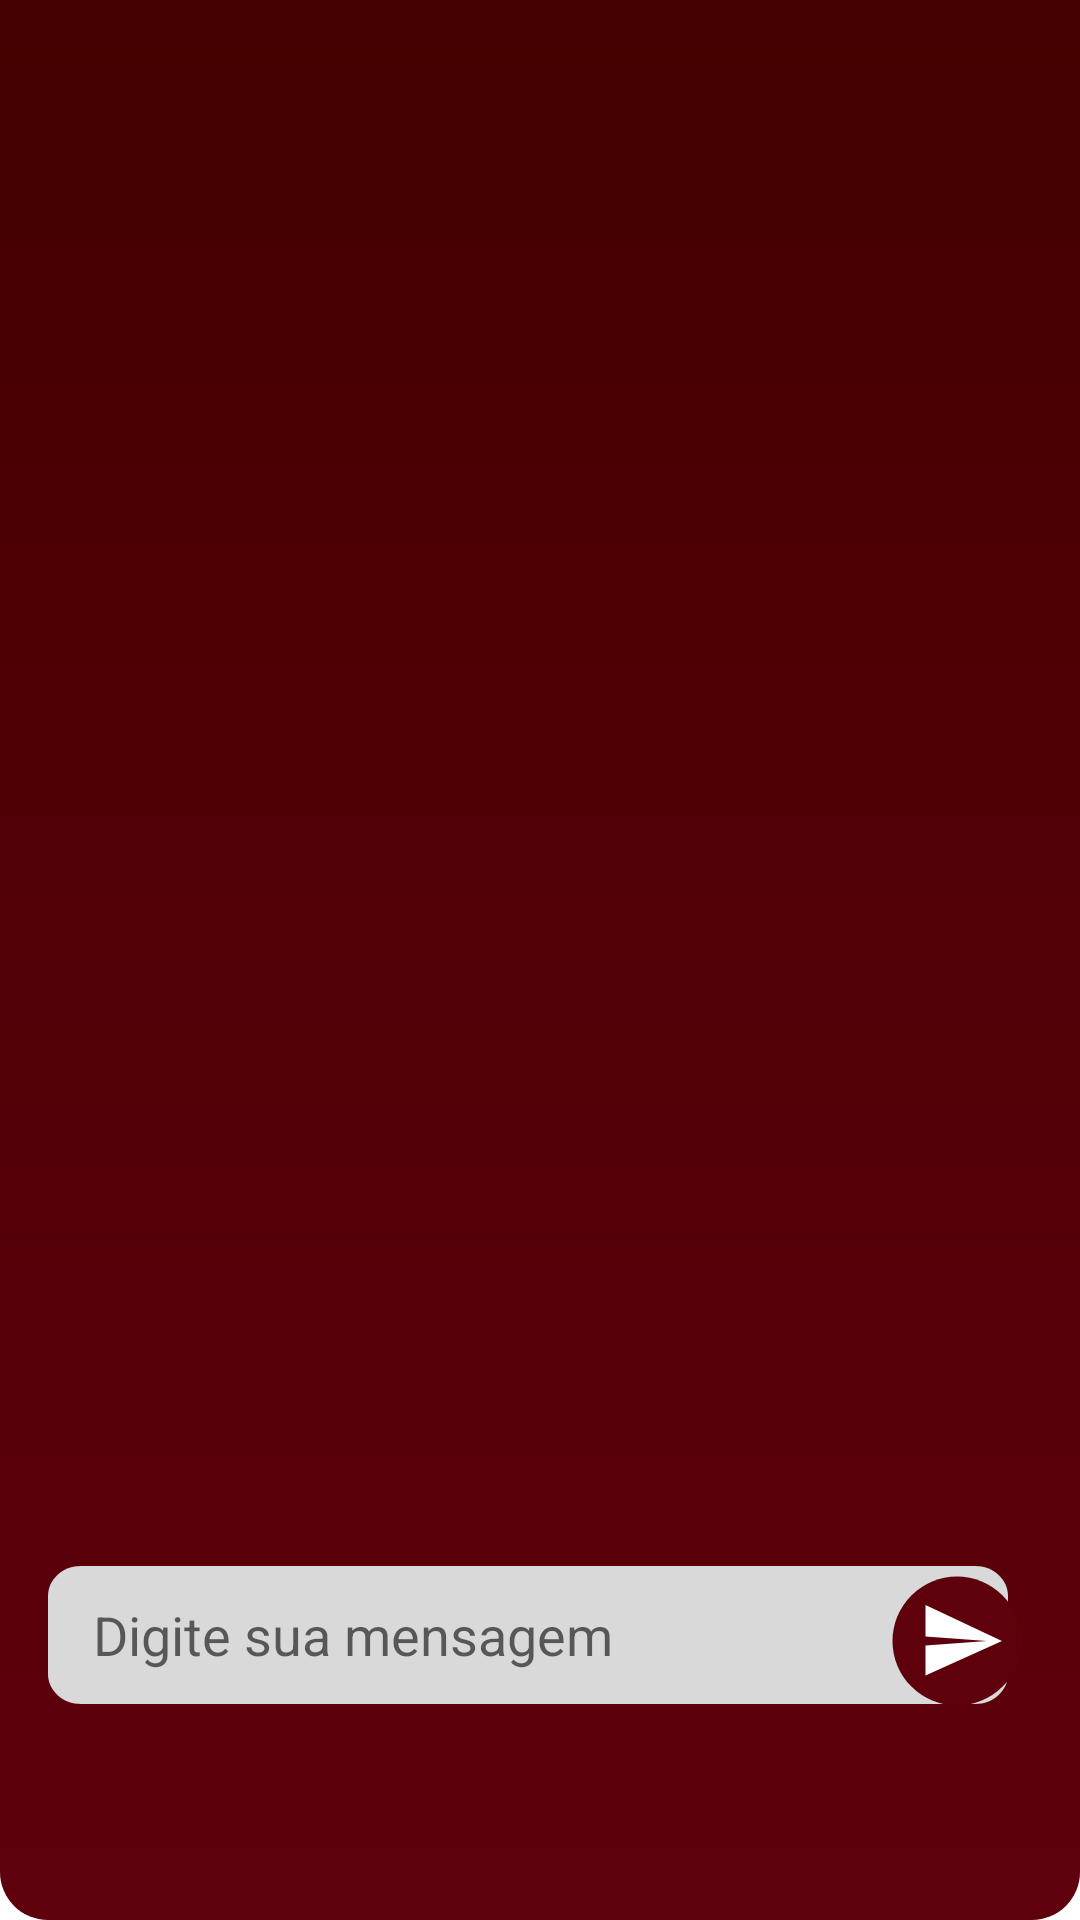

Point at icon controls on the screen. Image size 1080*1920, points as (x,y).
send: (945,1635)
